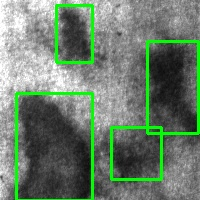patches: (16, 93, 92, 200), (147, 41, 198, 133), (111, 127, 161, 179), (56, 6, 92, 62)
